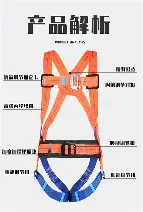safety belt: (29, 45, 112, 203)
safety belt2: (31, 49, 112, 203)
